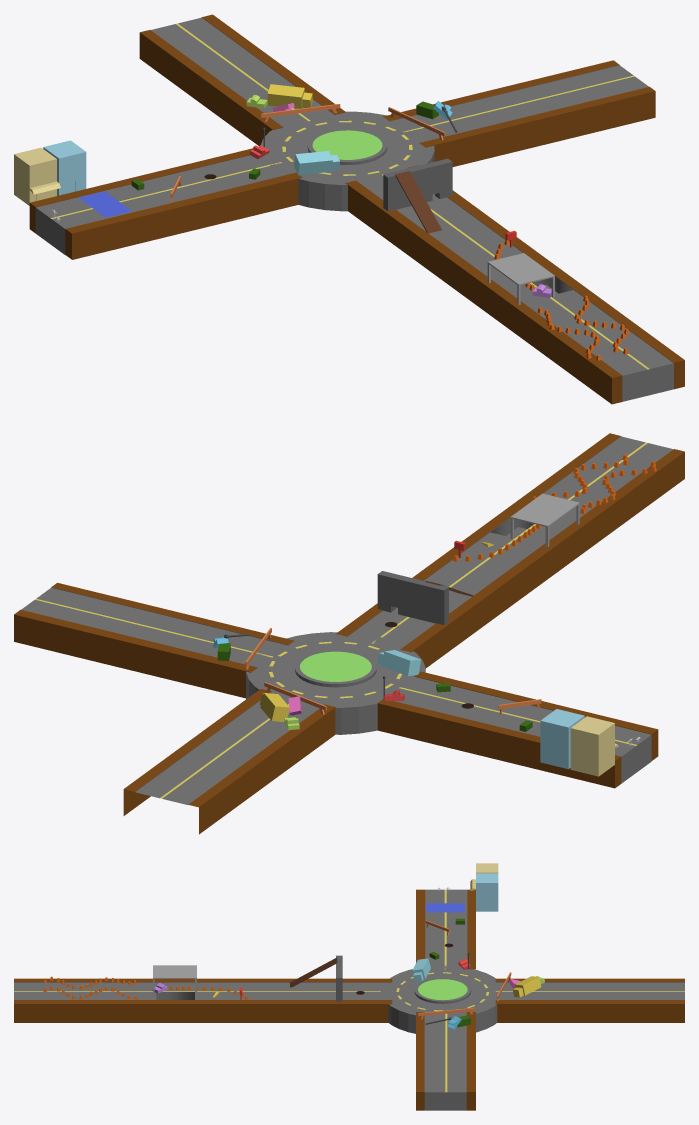
File: CARRETERA DE GAMEMAKERS.fbx
The picture shows the model from 3 angles, top to bottom: view 1: azimuth 30°, elevation 25°; view 2: azimuth 150°, elevation 25°; view 3: azimuth 270°, elevation 25°; orthographic projection. The views are drawn at different scales.
Parts seen in each view (by area): view 1: Plane.001, Cube.012, Cube.030, Cube.031, Cube.025, Cube.013, Cube.011, Cube.003, Plane; view 2: Plane.001, Cube.012, Cube.030, Cube.031, Cube.025, Cube.011, Cube.003; view 3: Plane.001, Cube.031, Cube.025, Cube.003, Plane.
Part boxes in pixels (box(x1,y1,x2,y2)): Plane.001: box(29, 14, 684, 404); Cube.012: box(383, 158, 452, 211); Cube.030: box(14, 147, 60, 205); Cube.031: box(43, 140, 86, 195); Cube.025: box(487, 253, 554, 305); Cube.013: box(395, 171, 441, 233); Cube.011: box(294, 151, 339, 175); Cube.003: box(267, 84, 312, 108); Plane: box(78, 191, 131, 217); Plane.001: box(14, 433, 684, 834); Cube.012: box(377, 571, 448, 624); Cube.030: box(570, 716, 618, 776); Cube.031: box(540, 709, 584, 769); Cube.025: box(510, 493, 579, 547); Cube.011: box(377, 650, 420, 675); Cube.003: box(260, 693, 289, 721); Plane.001: box(14, 889, 684, 1110); Cube.031: box(476, 873, 498, 911); Cube.025: box(153, 965, 196, 992); Cube.003: box(513, 976, 541, 997); Plane: box(426, 903, 464, 912).
Bounding box in the file's own units: 19242 × 2001 × 26958.
